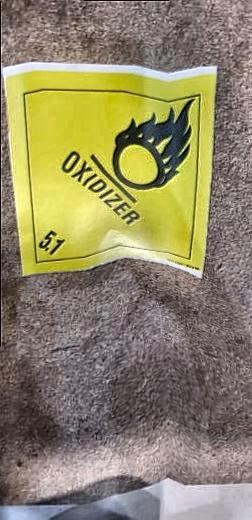oxidizer: (5, 68, 219, 284)
